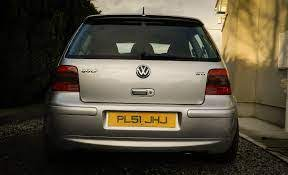number_plates: (108, 111, 178, 128)
